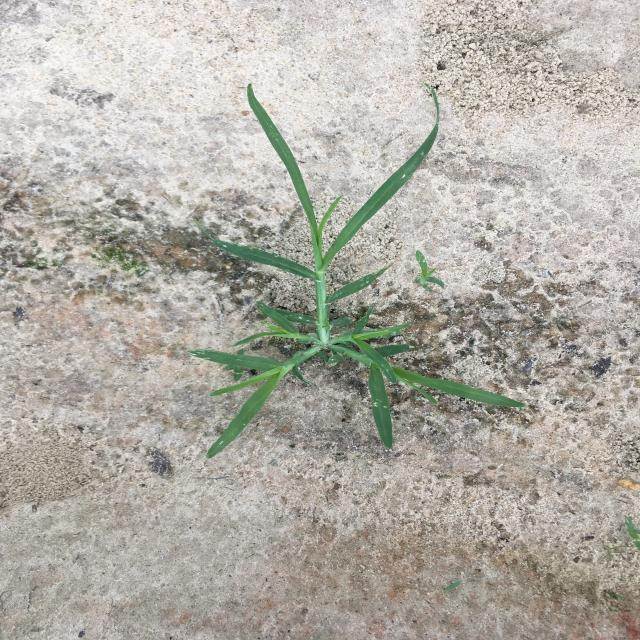Goosegrass: (187, 81, 527, 459), (413, 250, 446, 292)
